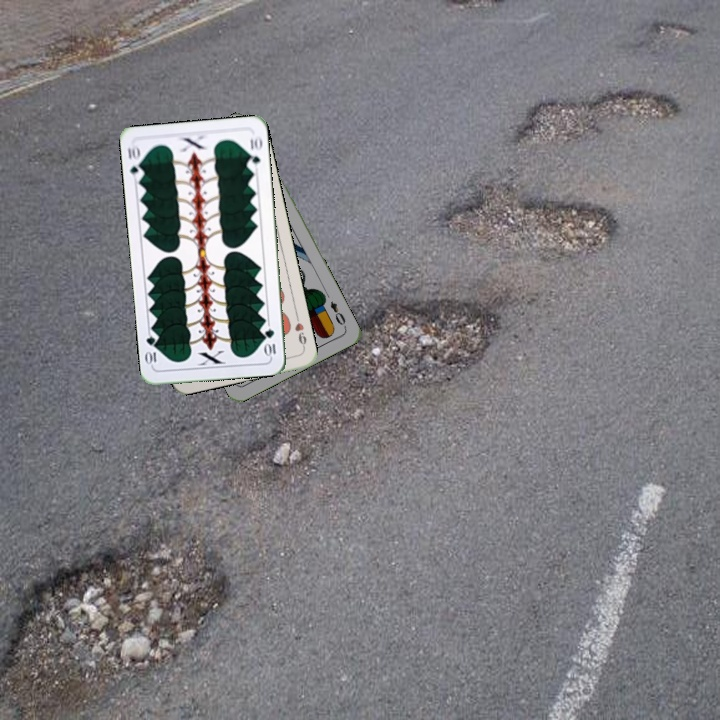EO: (326, 297, 349, 331)
G10: (124, 141, 146, 181), (261, 324, 278, 359)
H9: (291, 311, 309, 352)
